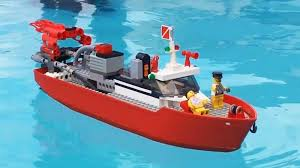tau_dansu: (37, 36, 260, 151)
